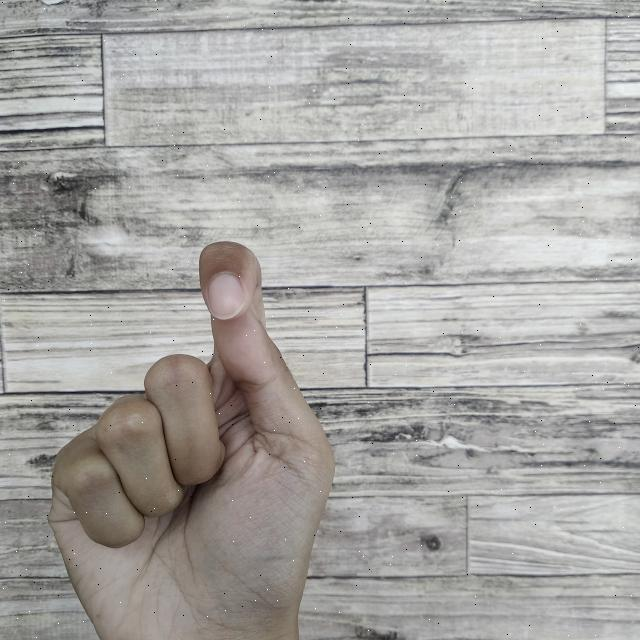T: (45, 234, 338, 640)
